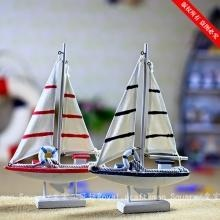fanchuan: (92, 42, 194, 181), (2, 43, 99, 175)
